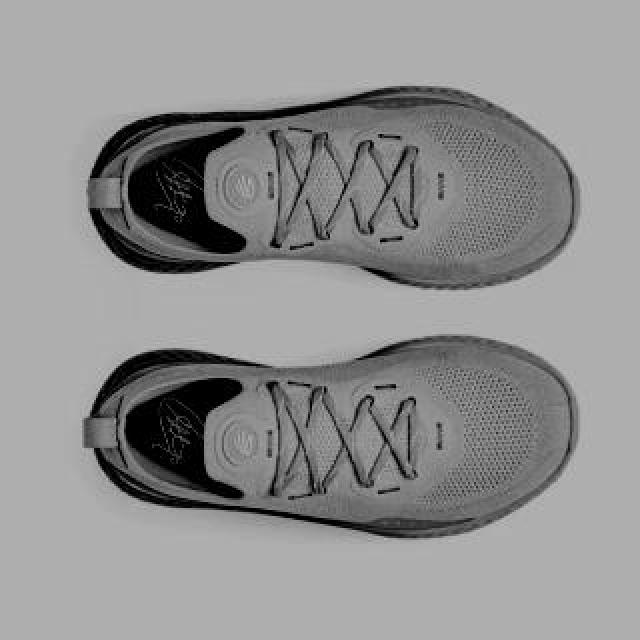shoe: (84, 82, 584, 290), (83, 332, 577, 536)
